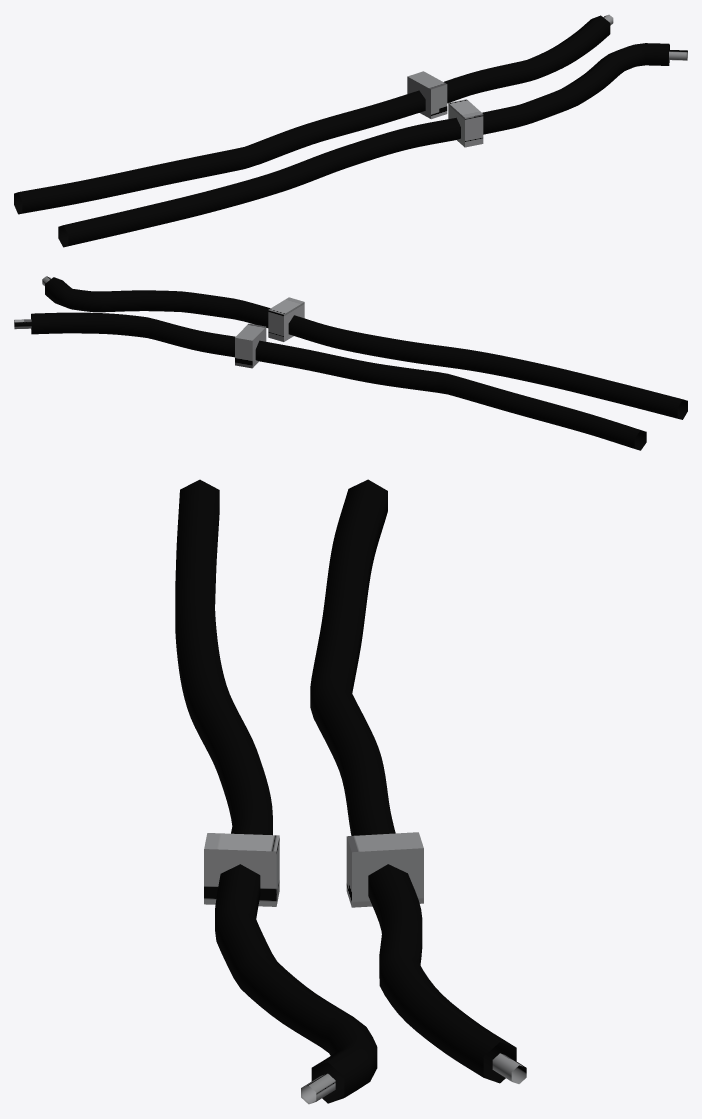
The picture shows the model from 3 angles, top to bottom: view 1: azimuth 30°, elevation 25°; view 2: azimuth 150°, elevation 25°; view 3: azimuth 270°, elevation 25°; orthographic projection. The views are drawn at different scales.
Size of the model in its own units: 0.7398 by 0.032 by 0.1839.
